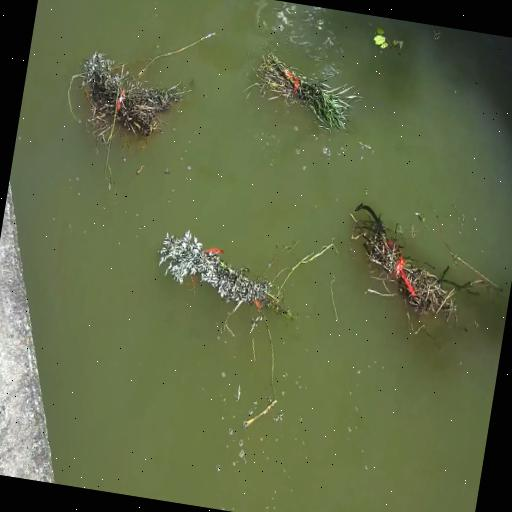twig: (154, 224, 308, 342), (350, 208, 478, 326), (77, 51, 196, 161), (238, 45, 360, 140), (360, 15, 411, 69)
